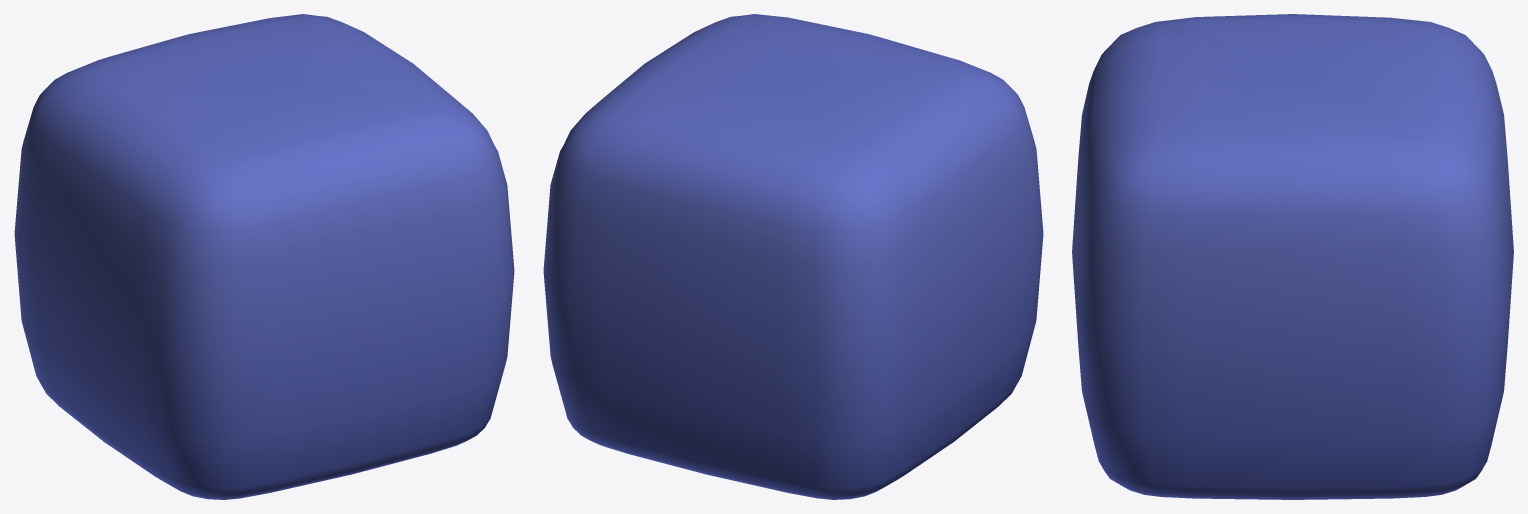
Rendered from Pouf_02.glb.
3 views of the same model, side by side, from view 1: azimuth 30°, elevation 25°; view 2: azimuth 150°, elevation 25°; view 3: azimuth 270°, elevation 25° (orthographic). The views are drawn at different scales.
Visible parts, largest first — view 1: Pouf_02; view 2: Pouf_02; view 3: Pouf_02.
Boxes of the visible parts, bbox=[...] form: Pouf_02: bbox=[14, 14, 514, 499]; Pouf_02: bbox=[543, 14, 1043, 499]; Pouf_02: bbox=[1072, 14, 1513, 499].
Size of the model in its own units: 0.5408 by 0.4815 by 0.5408.
1 material, 1 textured.
